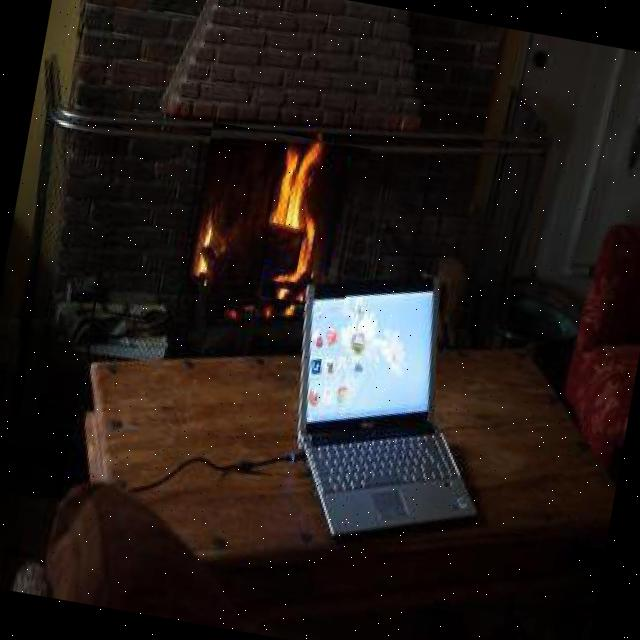fire: (184, 122, 370, 310)
